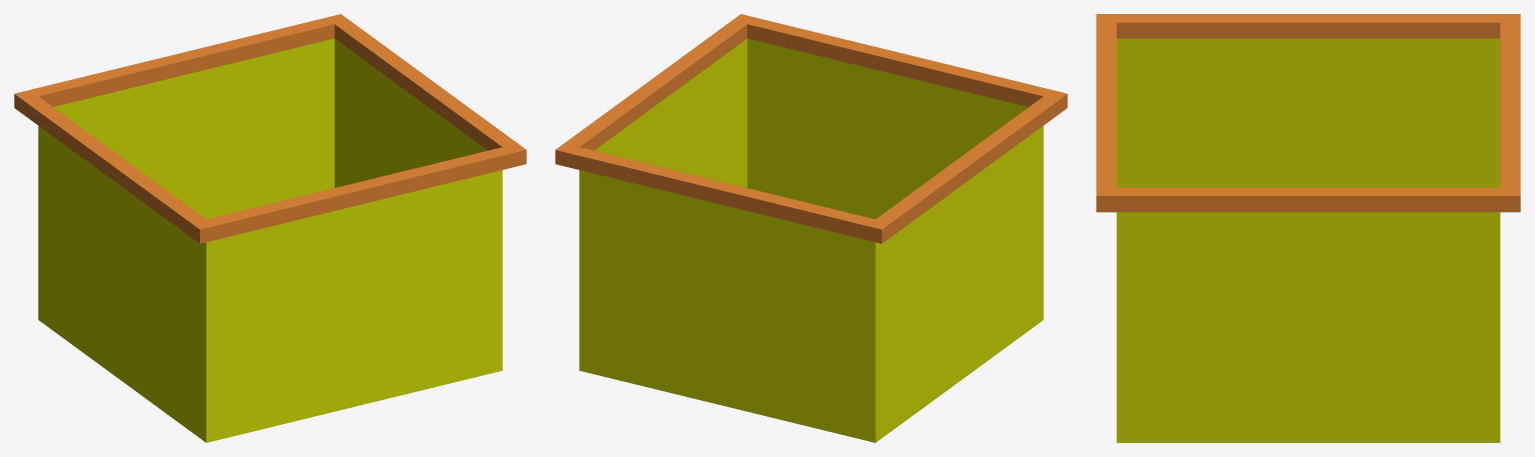
Rendered from Mechanical_floor_T1_Active.fbx.
3 renders of one model, left to right at view 1: azimuth 30°, elevation 25°; view 2: azimuth 150°, elevation 25°; view 3: azimuth 270°, elevation 25°, orthographic. The views are drawn at different scales.
Visible parts, largest first — view 1: Mechanical_floor_T1_Active; view 2: Mechanical_floor_T1_Active; view 3: Mechanical_floor_T1_Active.
Boxes of the visible parts, x1=… form: Mechanical_floor_T1_Active: x1=14, y1=14, x2=526, y2=442; Mechanical_floor_T1_Active: x1=555, y1=14, x2=1067, y2=442; Mechanical_floor_T1_Active: x1=1096, y1=14, x2=1520, y2=442.
Size of the model in its own units: 0.9677 by 0.9524 by 0.6327.
